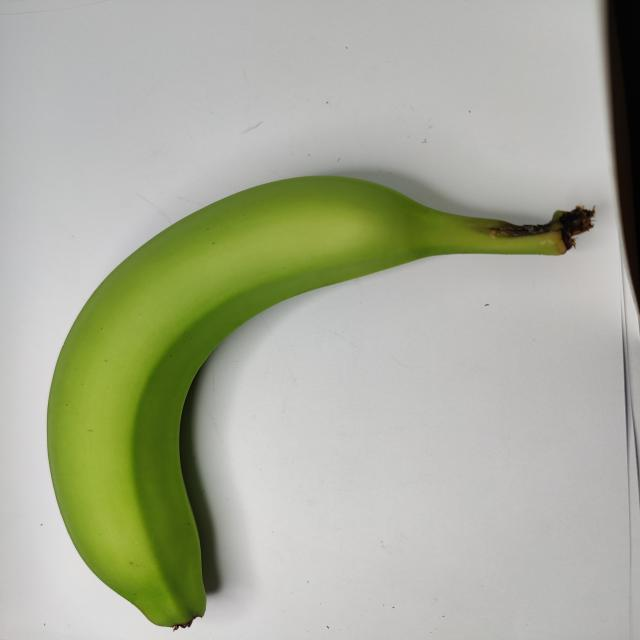raw: (13, 152, 625, 634)
